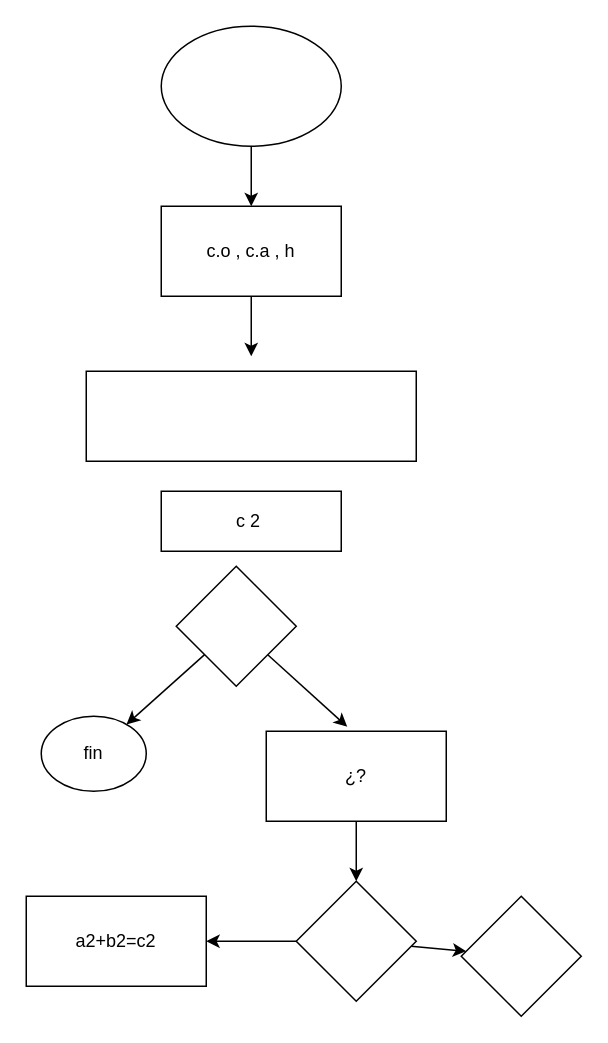
The diagram is 608 pixels wide and 1043 high, and some of its shapes have lost their labels. The shapes that lost their labels are listed below. From the top down, each one's box as (x1, y1, x2, y2) in pixels, then its label:
(160, 25, 341, 146): INICIO
(85, 370, 416, 461): explicacion
(175, 565, 296, 686): si =resp
